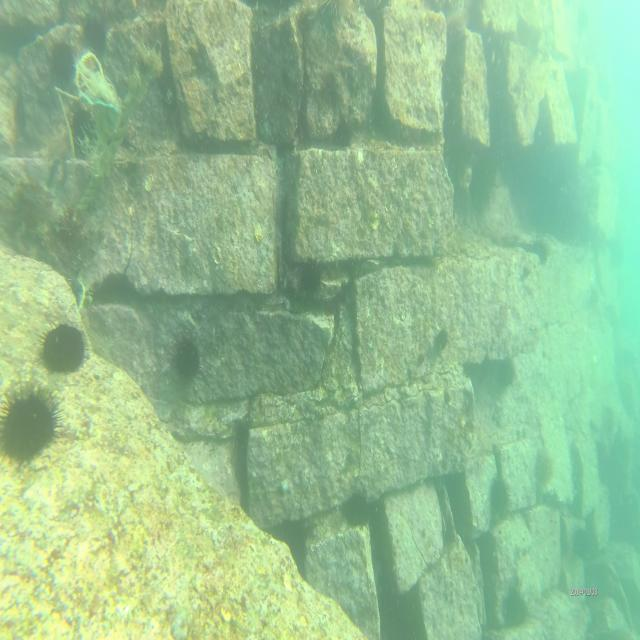echinus: (0, 381, 66, 466), (36, 315, 91, 374), (168, 334, 206, 384), (340, 484, 373, 530), (503, 585, 531, 631), (572, 524, 600, 563), (299, 255, 321, 300), (488, 470, 508, 518), (534, 452, 555, 492), (333, 115, 353, 149), (532, 232, 552, 264), (436, 321, 450, 350)
